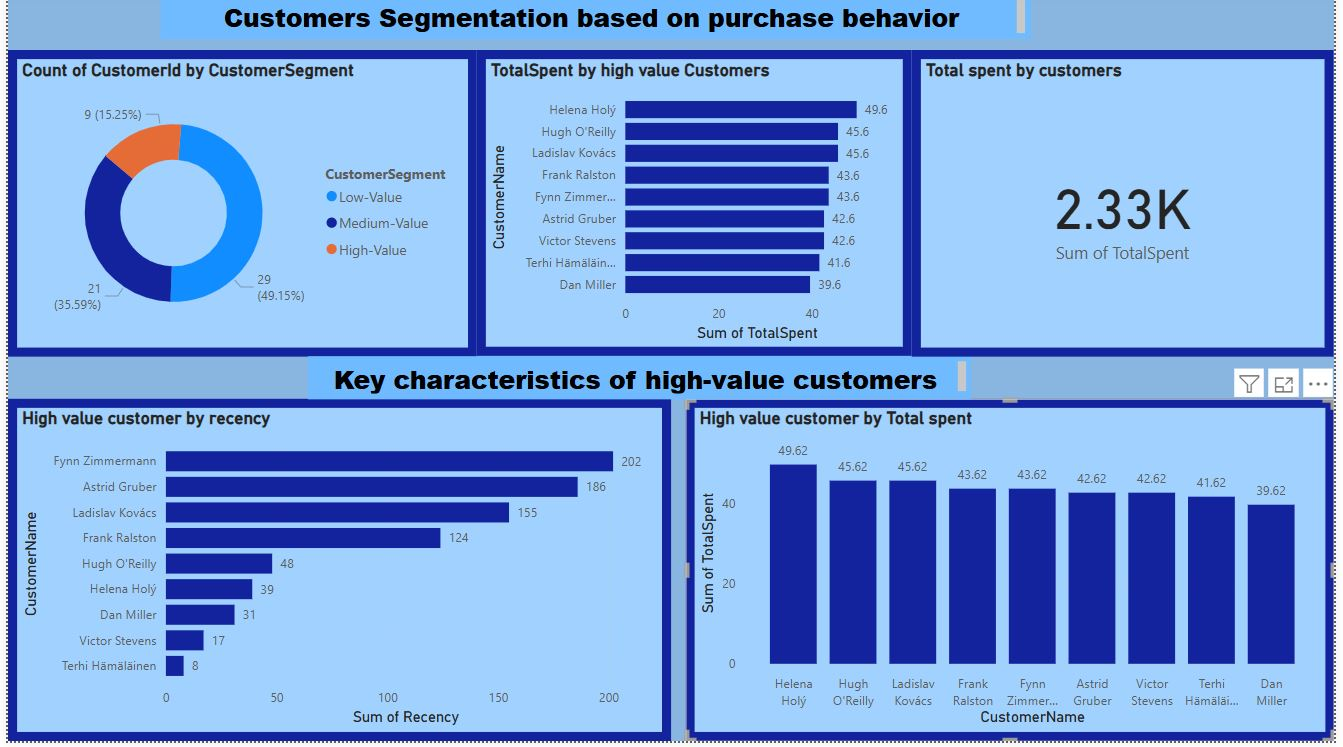

The dashboard page shown, as its layout file describes it:
{"tool":"powerbi","page":{"name":"Page 2","canvas":[1280,720],"ordinal":1},"visuals":[{"type":"donutChart","fields":{"Category":["customer_segmentss.CustomerSegment"],"Y":["CountNonNull(customer_segmentss.CustomerId)"]},"box":[9.6,67.2,443.2,255.2],"z":0},{"type":"clusteredBarChart","title":" TotalSpent by high value Customers","fields":{"Category":["high_value_customerss (2).CustomerName"],"Y":["Sum(high_value_customerss (2).TotalSpent)"]},"box":[465.2,67.2,377.4,255.2],"z":1000},{"type":"columnChart","title":"High value customer by PurchaseFrequency","fields":{"Category":["high_value_customerss (2).PurchaseFrequency"],"Y":["CountNonNull(high_value_customerss (2).CustomerId)"]},"box":[19.2,374.6,336.2,325.2],"z":2000},{"type":"clusteredBarChart","title":"High value customer  by recency","fields":{"Category":["high_value_customerss (2).CustomerName"],"Y":["Sum(high_value_customerss (2).Recency)"]},"box":[382.8,374.6,392.5,325.2],"z":3000},{"type":"columnChart","title":"High value customer by  Total spent","fields":{"Y":["Sum(high_value_customerss (2).TotalSpent)"],"Category":["high_value_customerss (2).CustomerName"]},"box":[789,373.2,452.8,325.2],"z":4000},{"type":"textbox","box":[290,332.2,640,37.8],"z":5000},{"type":"textbox","box":[146.8,0,839.8,42.5],"z":6000},{"type":"card","title":"Total spent by customers","fields":{"Values":["Sum(customer_segmentss.TotalSpent)"]},"box":[872.7,67.2,369.1,255.2],"z":7000}]}

Visuals, with their boxes in screenshot pixels (x1, y1, x2, y2), scaled from the page's 1280x720 canvas onto the 1343x747 screenshot:
donutChart - customer_segmentss.CustomerSegment x CountNonNull(customer_segmentss.CustomerId): box(10, 70, 475, 334)
" TotalSpent by high value Customers" clusteredBarChart: box(488, 70, 884, 334)
"High value customer by PurchaseFrequency" columnChart: box(20, 389, 373, 726)
"High value customer  by recency" clusteredBarChart: box(402, 389, 813, 726)
"High value customer by  Total spent" columnChart: box(828, 387, 1303, 725)
textbox: box(304, 345, 976, 384)
textbox: box(154, 0, 1035, 44)
"Total spent by customers" card: box(916, 70, 1303, 334)
